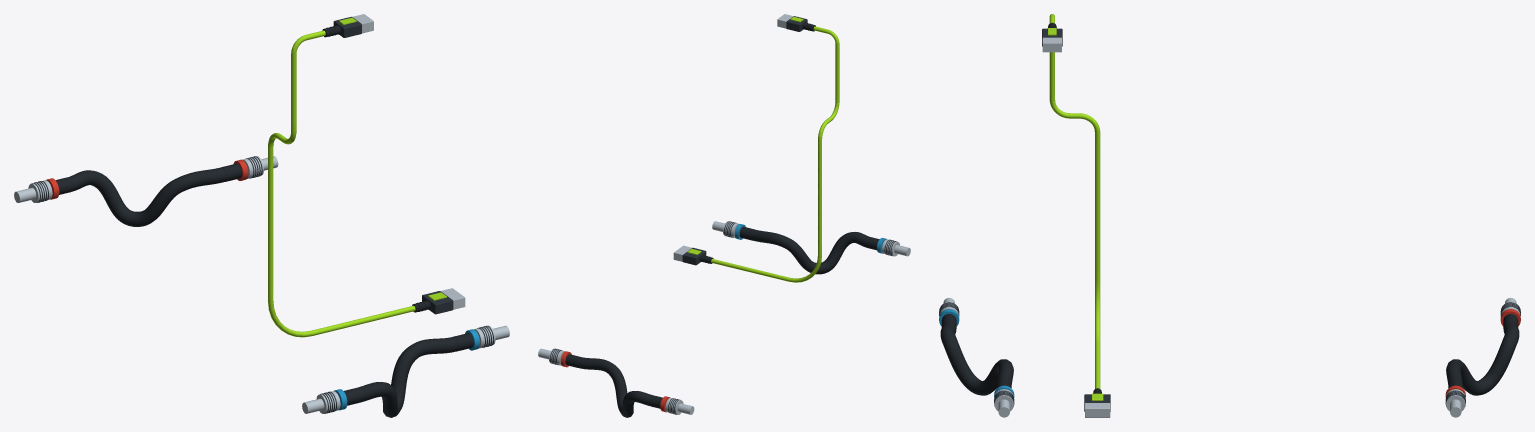
The model's file is SM_GJ_Harness_16.fbx.
3 renders of one model, left to right at view 1: azimuth 30°, elevation 25°; view 2: azimuth 150°, elevation 25°; view 3: azimuth 270°, elevation 25°, orthographic. The views are drawn at different scales.
Visible parts, largest first — view 1: SM_GJ_Harness_16; view 2: SM_GJ_Harness_16; view 3: SM_GJ_Harness_16.
Part boxes in pixels (bbox=[...]): SM_GJ_Harness_16: bbox=[14, 14, 509, 417]; SM_GJ_Harness_16: bbox=[538, 14, 910, 417]; SM_GJ_Harness_16: bbox=[939, 14, 1520, 417].
Bounding box in the file's own units: 22.6 × 50.76 × 34.59.
